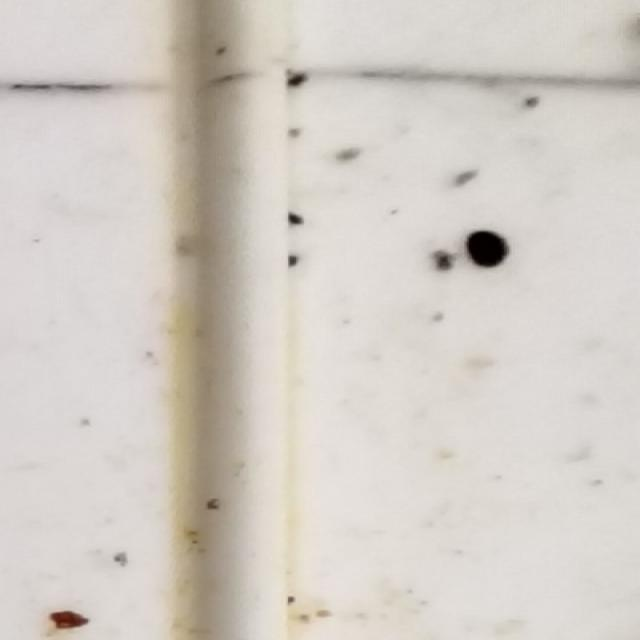varroa: (468, 230, 510, 271)
